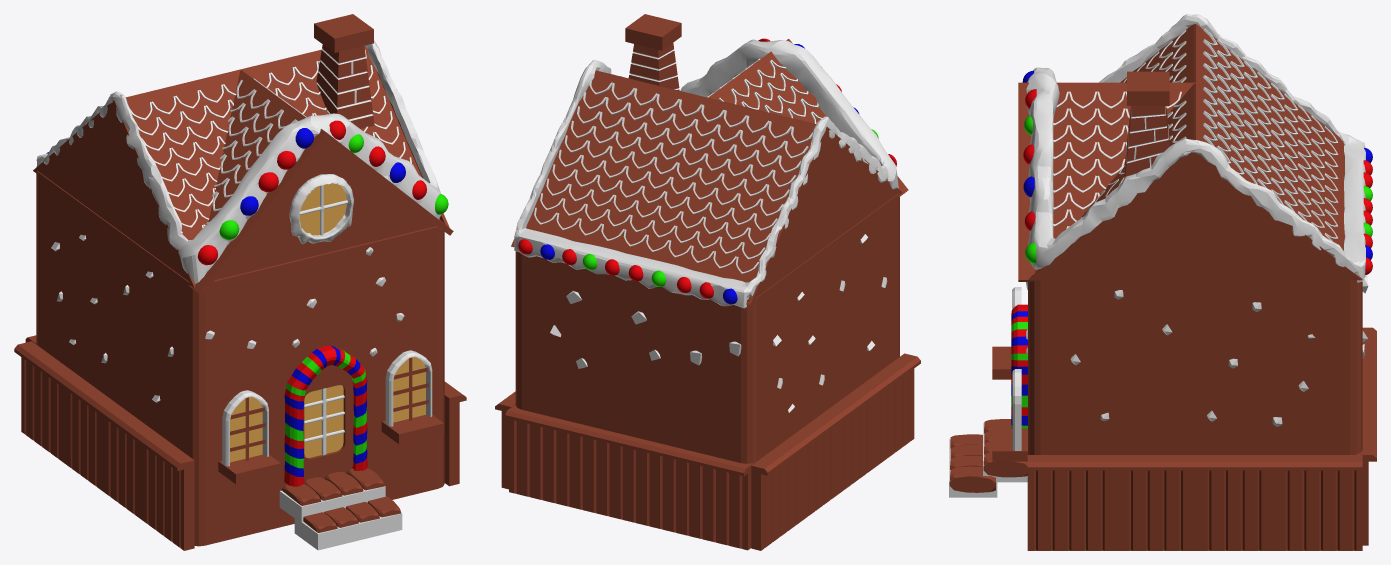
Rendered from GingerBread-House-1.glb.
3 views of the same model, side by side, from view 1: azimuth 30°, elevation 25°; view 2: azimuth 150°, elevation 25°; view 3: azimuth 270°, elevation 25° (orthographic). The views are drawn at different scales.
Parts seen in each view (by area): view 1: Cube.020, Cube.021, Plane.012, Cube.034, Plane.017, Plane.014, Plane.013, Schoorsteen.001, DoorOmlijsting.001, Cube.024, Cube.025, Plane.021 (+10 smaller); view 2: Cube.020, Plane.012, Cube.022, Cube.021, Cube.034, Plane.018, Plane.017, Plane.013, Schoorsteen.001, Plane.019; view 3: Cube.020, Cube.021, Plane.015, Cube.034, Plane.012, Plane.013, Plane.018, Schoorsteen.001, Cube.022, Plane.020, Cube.024, DoorOmlijsting.001 (+4 smaller).
Boxes of the visible parts, bbox=[...] form: Cube.020: bbox=[36, 170, 444, 546]; Cube.021: bbox=[14, 341, 466, 550]; Plane.012: bbox=[125, 46, 441, 239]; Cube.034: bbox=[36, 40, 441, 283]; Plane.017: bbox=[33, 100, 195, 287]; Plane.014: bbox=[215, 140, 436, 279]; Plane.013: bbox=[188, 69, 453, 295]; Schoorsteen.001: bbox=[314, 14, 374, 128]; DoorOmlijsting.001: bbox=[284, 345, 367, 486]; Cube.024: bbox=[381, 350, 443, 444]; Cube.025: bbox=[218, 390, 280, 484]; Plane.021: bbox=[130, 49, 411, 232]; Cube.020: bbox=[515, 193, 899, 463]; Plane.012: bbox=[526, 70, 816, 305]; Cube.022: bbox=[505, 405, 753, 550]; Cube.021: bbox=[495, 353, 920, 550]; Cube.034: bbox=[514, 39, 898, 308]; Plane.018: bbox=[534, 80, 812, 273]; Plane.017: bbox=[747, 127, 902, 304]; Plane.013: bbox=[707, 39, 908, 196]; Schoorsteen.001: bbox=[625, 14, 681, 90]; Plane.019: bbox=[719, 60, 822, 123]; Cube.020: bbox=[1028, 274, 1362, 454]; Cube.021: bbox=[1027, 455, 1362, 550]; Plane.015: bbox=[1028, 152, 1362, 280]; Cube.034: bbox=[1026, 14, 1365, 282]; Plane.012: bbox=[1035, 23, 1344, 272]; Plane.013: bbox=[1018, 82, 1195, 281]; Plane.018: bbox=[1203, 28, 1338, 241]; Schoorsteen.001: bbox=[1124, 71, 1169, 178]; Cube.022: bbox=[1356, 327, 1376, 545]; Plane.020: bbox=[1053, 91, 1181, 228]; Cube.024: bbox=[992, 369, 1027, 461]; DoorOmlijsting.001: bbox=[1011, 304, 1027, 428].
Size of the model in its own units: 6.88 by 9.73 by 8.56.
